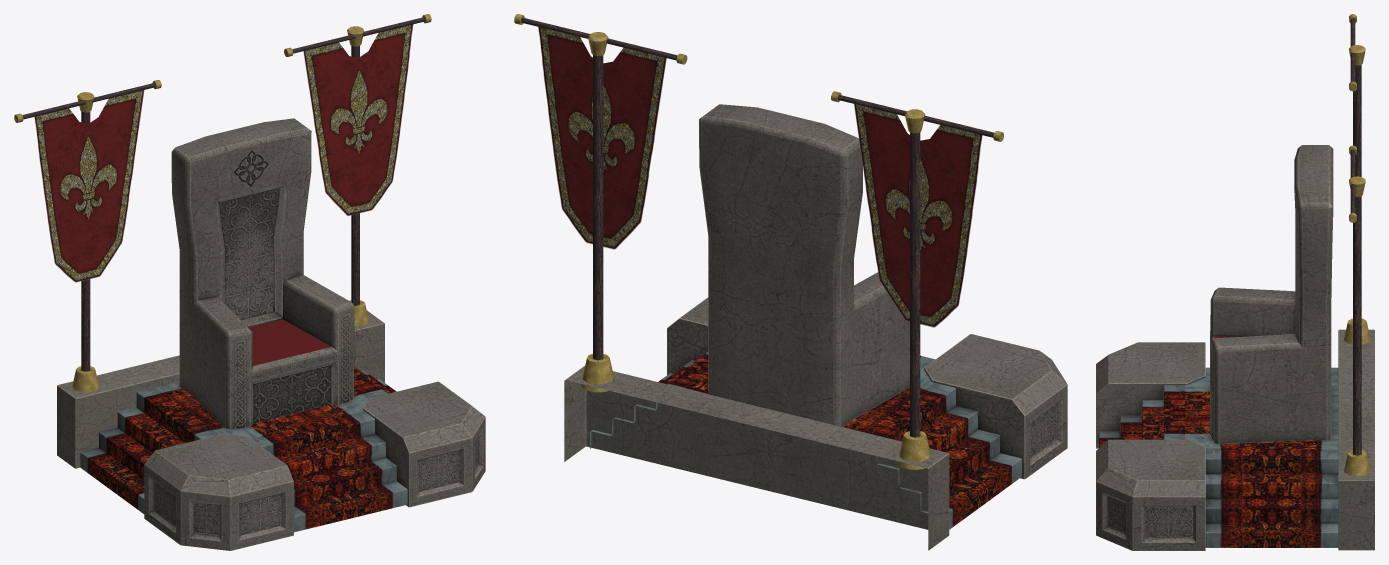
The model's file is stone_throne.glb.
The picture shows the model from 3 angles, left to right: view 1: azimuth 30°, elevation 25°; view 2: azimuth 150°, elevation 25°; view 3: azimuth 270°, elevation 25°; orthographic projection. The views are drawn at different scales.
Parts seen in each view (by area): view 1: defaultMaterial, defaultMaterial.009, defaultMaterial.002, defaultMaterial.003, defaultMaterial.001, defaultMaterial.007, defaultMaterial.006, defaultMaterial.008; view 2: defaultMaterial, defaultMaterial.009, defaultMaterial.001, defaultMaterial.002, defaultMaterial.003, defaultMaterial.007, defaultMaterial.008, defaultMaterial.006, defaultMaterial.005; view 3: defaultMaterial, defaultMaterial.003, defaultMaterial.002, defaultMaterial.001, defaultMaterial.007, defaultMaterial.008, defaultMaterial.006, defaultMaterial.005.
Boxes of the visible parts, box(x1,y1,x2,y2) form: defaultMaterial: box(171, 118, 354, 429); defaultMaterial.009: box(34, 24, 413, 282); defaultMaterial.002: box(144, 381, 485, 550); defaultMaterial.003: box(80, 366, 407, 532); defaultMaterial.001: box(57, 310, 384, 468); defaultMaterial.007: box(81, 46, 359, 371); defaultMaterial.006: box(22, 17, 425, 119); defaultMaterial.008: box(72, 300, 368, 392); defaultMaterial: box(699, 104, 909, 426); defaultMaterial.009: box(538, 27, 982, 327); defaultMaterial.001: box(564, 365, 949, 550); defaultMaterial.002: box(667, 297, 1067, 479); defaultMaterial.003: box(590, 352, 1021, 529); defaultMaterial.007: box(593, 55, 920, 437); defaultMaterial.008: box(581, 353, 930, 469); defaultMaterial.006: box(521, 17, 994, 137); defaultMaterial.005: box(588, 32, 925, 133); defaultMaterial: box(1210, 145, 1333, 444); defaultMaterial.003: box(1099, 367, 1338, 547); defaultMaterial.002: box(1096, 342, 1205, 550); defaultMaterial.001: box(1338, 329, 1374, 550); defaultMaterial.007: box(1353, 64, 1361, 455); defaultMaterial.008: box(1344, 318, 1370, 476); defaultMaterial.006: box(1350, 18, 1355, 213); defaultMaterial.005: box(1349, 45, 1365, 196).
Size of the model in its own units: 2 by 1.68 by 1.17.
Materials: 1 (1 with a texture image).
